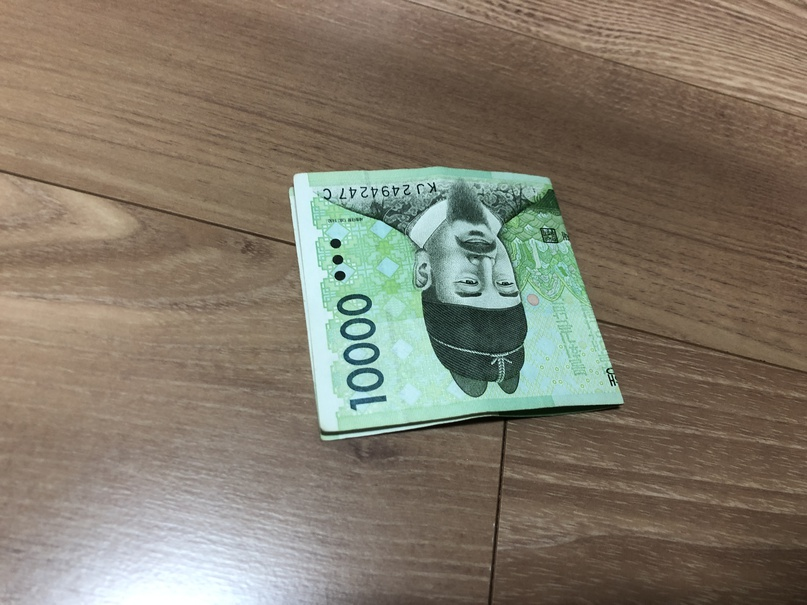10000won: (288, 166, 624, 446)
